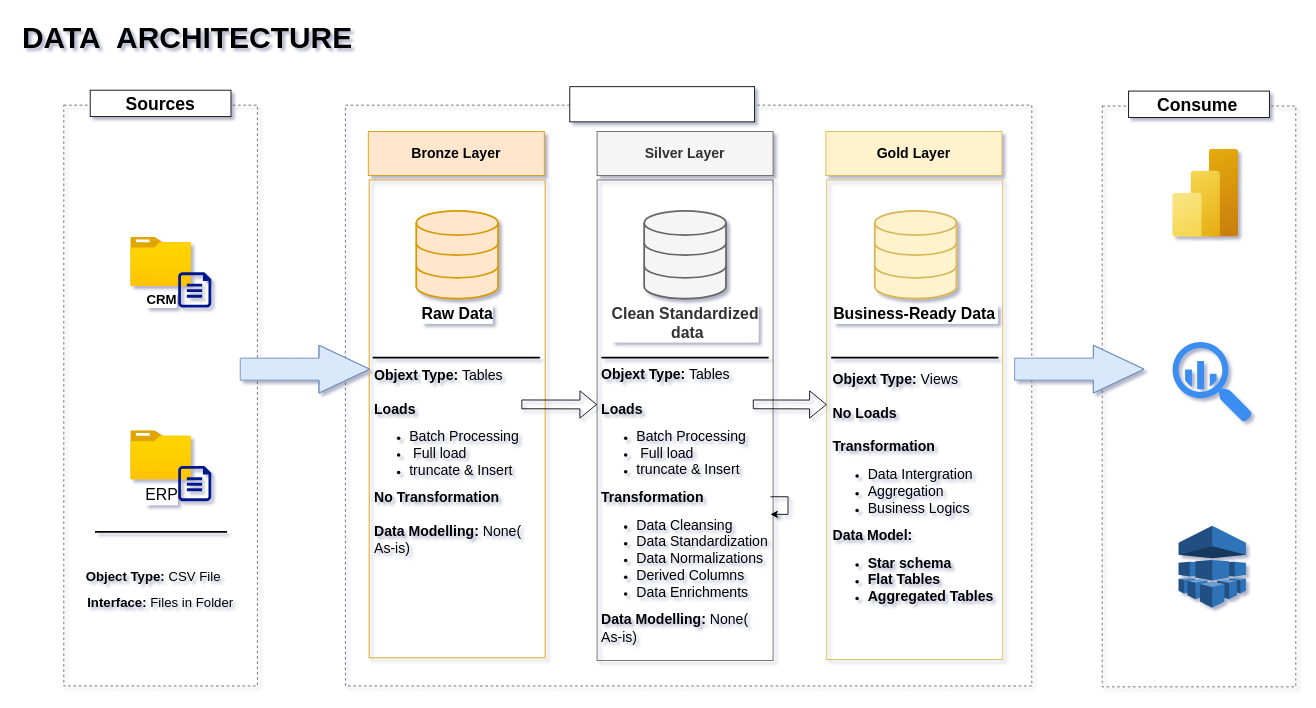
Image size: 1316x708. Some labels were removed from this diagram. Here are the shapes that lost their labels. From the top down, the box of each, then its label:
(569, 86, 755, 122): Data Warehouse
(1172, 149, 1238, 237): BI & Reporting
(1172, 341, 1251, 422): Ad-HOC SQL Queries
(1178, 525, 1246, 608): Machine Learning
